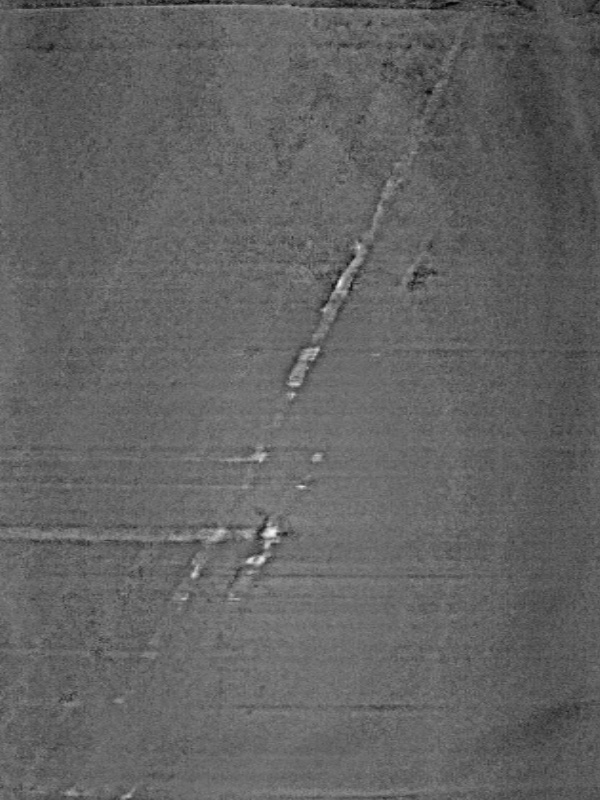splice_vulcanized: (20, 10, 497, 800)
